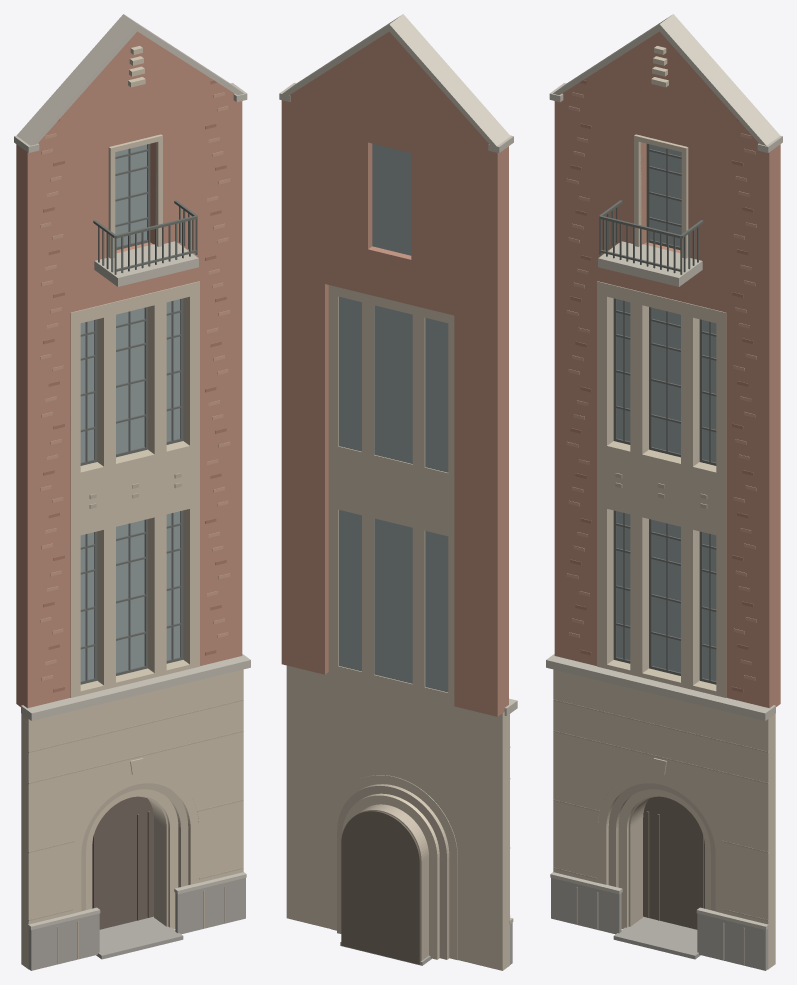
File: jingan-science-hall-school-arched-entrance-web.glb
3 views of the same model, side by side, from view 1: azimuth 30°, elevation 25°; view 2: azimuth 150°, elevation 25°; view 3: azimuth 330°, elevation 25° (orthographic).
Visible parts, largest first — view 1: 上海市科学馆（市立实验民众学校旧址）1号楼石券门与山墙小阳台; view 2: 上海市科学馆（市立实验民众学校旧址）1号楼石券门与山墙小阳台; view 3: 上海市科学馆（市立实验民众学校旧址）1号楼石券门与山墙小阳台.
Boxes of the visible parts, x1,y1,x2,y2 form: 上海市科学馆（市立实验民众学校旧址）1号楼石券门与山墙小阳台: (14, 14, 250, 970); 上海市科学馆（市立实验民众学校旧址）1号楼石券门与山墙小阳台: (279, 14, 517, 970); 上海市科学馆（市立实验民众学校旧址）1号楼石券门与山墙小阳台: (546, 14, 782, 970).
Size of the model in its own units: 4.49 by 18.03 by 1.56.
